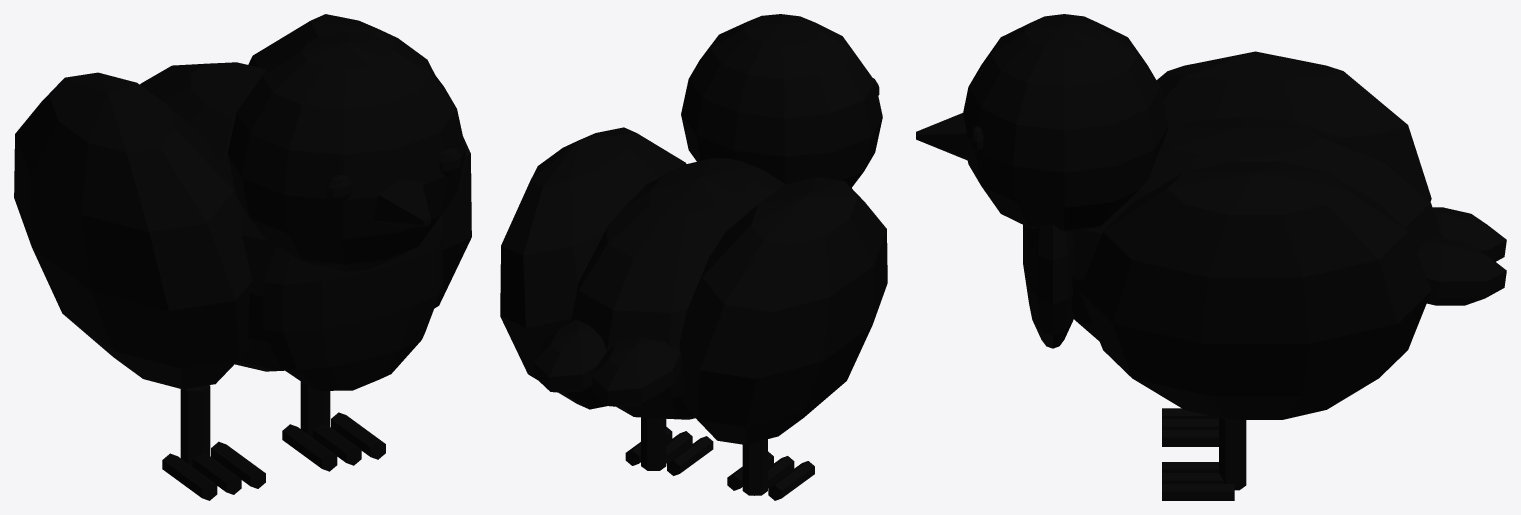
The model's file is perched.glb.
The picture shows the model from 3 angles, left to right: view 1: azimuth 30°, elevation 25°; view 2: azimuth 150°, elevation 25°; view 3: azimuth 270°, elevation 25°; orthographic projection. The views are drawn at different scales.
Parts seen in each view (by area): view 1: Wing_L, Head, BreastPatch, Body, Wing_R, Leg_L, Beak, Leg_R, Toe_L_0, Toe_R_0, Toe_R_2, Toe_L_2 (+4 smaller); view 2: Wing_L, Head, Body, Wing_R, Tail_L, Tail_R, Leg_L, Leg_R, Toe_L_0, Toe_R_0, Toe_R_1, Toe_L_1; view 3: Wing_R, Head, Wing_L, Body, BreastPatch, Tail_R, Tail_L, Leg_R, Beak, Toe_R_2, Toe_L_2, Toe_R_1.
Boxes of the visible parts, x1,y1,x2,y2 form: Wing_L: (14, 72, 251, 389); Head: (227, 32, 465, 271); BreastPatch: (263, 223, 442, 390); Body: (140, 62, 284, 371); Wing_R: (248, 14, 471, 308); Leg_L: (180, 385, 210, 466); Beak: (373, 178, 430, 228); Leg_R: (300, 381, 330, 437); Toe_L_0: (162, 453, 217, 500); Toe_R_0: (282, 424, 337, 471); Toe_R_2: (331, 412, 385, 459); Toe_L_2: (211, 441, 265, 488); Wing_L: (679, 177, 887, 444); Head: (681, 14, 882, 187); Body: (570, 158, 786, 419); Wing_R: (500, 127, 686, 409); Tail_L: (592, 339, 682, 406); Tail_R: (534, 320, 606, 392); Leg_L: (742, 439, 767, 495); Leg_R: (641, 417, 666, 470); Toe_L_0: (768, 461, 814, 500); Toe_R_0: (667, 436, 713, 475); Toe_R_1: (666, 431, 692, 463); Toe_L_1: (754, 456, 794, 495); Wing_R: (1079, 162, 1431, 419); Head: (963, 14, 1168, 232); Wing_L: (1156, 51, 1431, 201); Body: (1071, 117, 1442, 341); BreastPatch: (1023, 224, 1074, 348); Tail_R: (1416, 238, 1506, 305); Tail_L: (1432, 207, 1506, 261); Leg_R: (1219, 418, 1246, 490); Beak: (916, 113, 971, 160); Toe_R_2: (1162, 484, 1234, 500); Toe_L_2: (1162, 430, 1218, 446); Toe_R_1: (1162, 473, 1223, 483).
Size of the model in its own units: 0.0925 by 0.1127 by 0.1375.
Materials: 8 (8 with a texture image).
